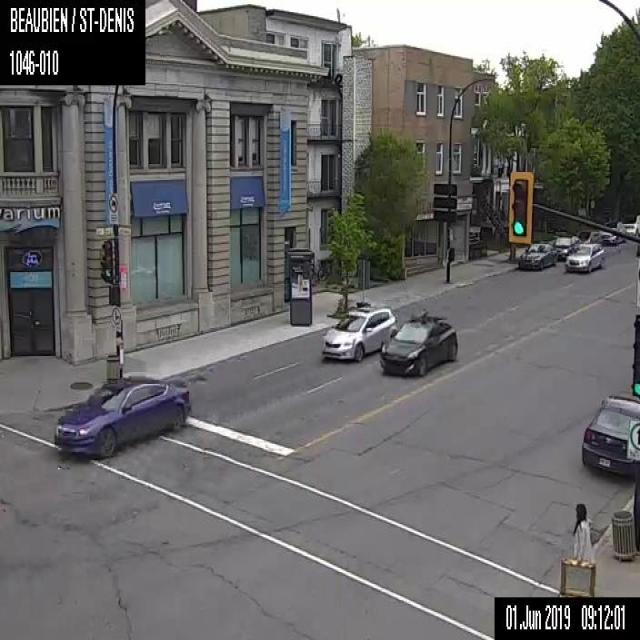pedestrian: (559, 502, 595, 596)
vehicle: (53, 378, 188, 458), (380, 308, 458, 376), (581, 392, 639, 480), (320, 308, 399, 361), (564, 242, 604, 272), (517, 241, 557, 269), (551, 233, 581, 261), (599, 220, 625, 245), (619, 213, 639, 234), (577, 228, 599, 243)
